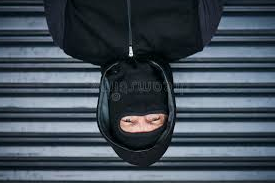terrorist: (45, 1, 233, 183)
